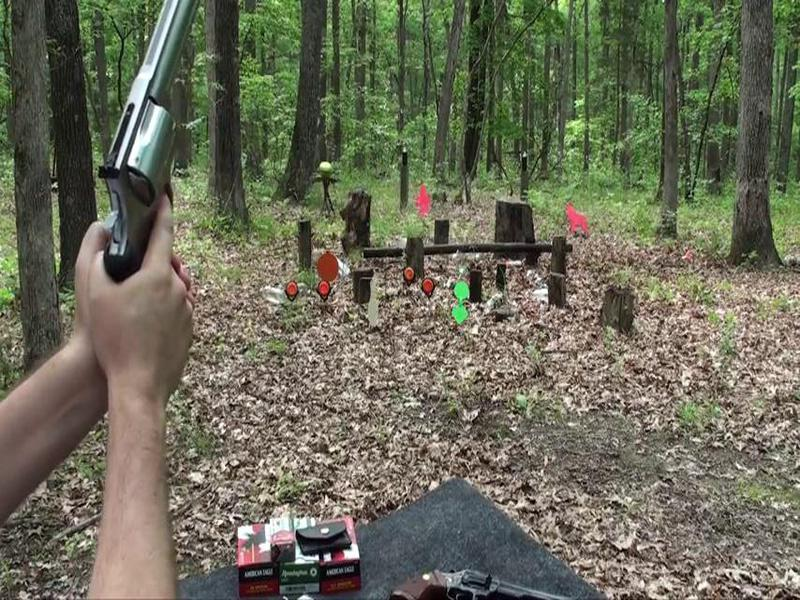Revolver: (58, 1, 227, 342)
